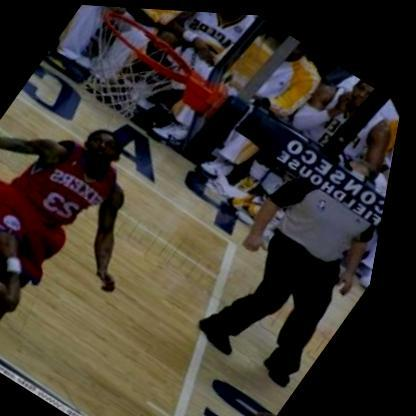rim: (53, 3, 211, 133)
